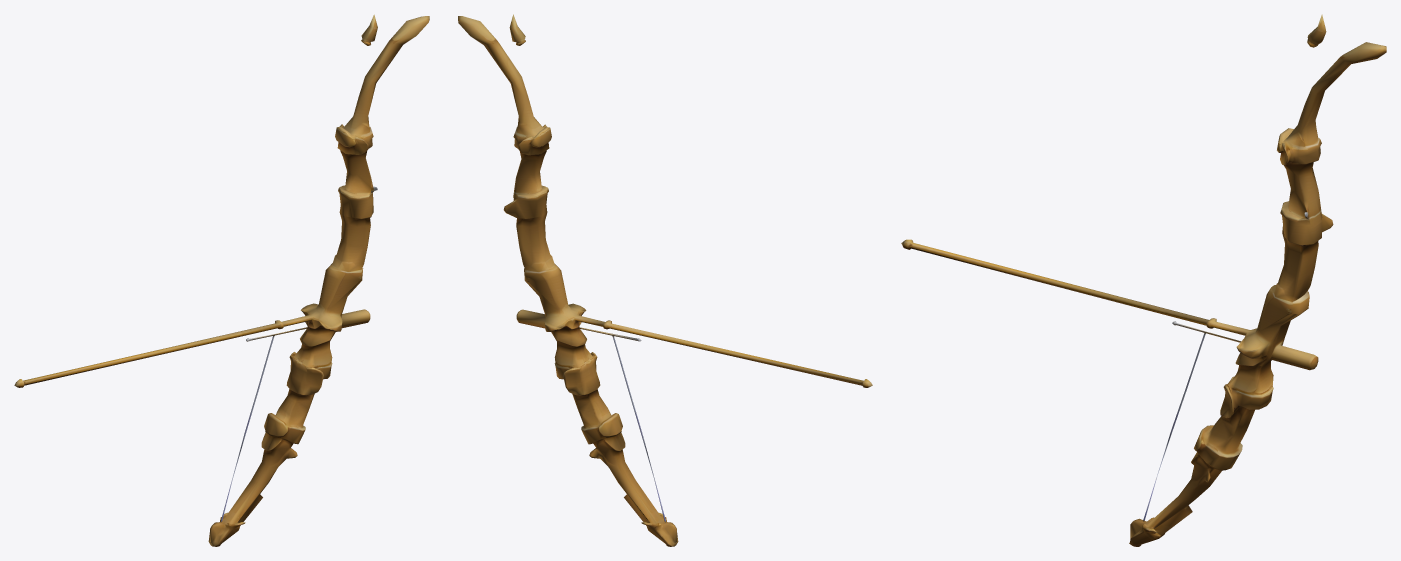
Rendered from boarhorn_shortbow.glb.
3 views of the same model, side by side, from view 1: azimuth 30°, elevation 25°; view 2: azimuth 150°, elevation 25°; view 3: azimuth 330°, elevation 25° (orthographic). The views are drawn at different scales.
Parts seen in each view (by area): view 1: base_model_path; view 2: base_model_path; view 3: base_model_path.
Boxes of the visible parts, box(x1,y1,x2,y2) form: base_model_path: box(14, 14, 429, 546); base_model_path: box(458, 14, 872, 546); base_model_path: box(901, 14, 1386, 546).
Size of the model in its own units: 0.8805 by 0.9999 by 0.1076.
Materials: 1 (1 with a texture image).
